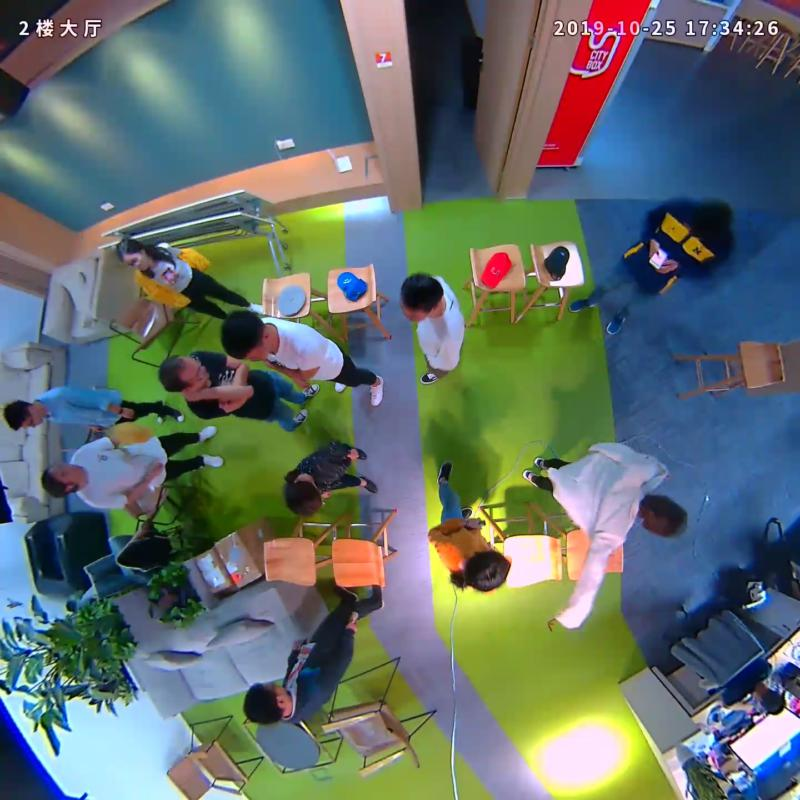head: (220, 311, 271, 362), (399, 271, 445, 322), (462, 549, 511, 594), (640, 494, 687, 536), (158, 353, 208, 392), (689, 199, 733, 241), (244, 683, 288, 725), (40, 462, 84, 497), (284, 477, 323, 516), (3, 399, 43, 431), (115, 238, 151, 271)
